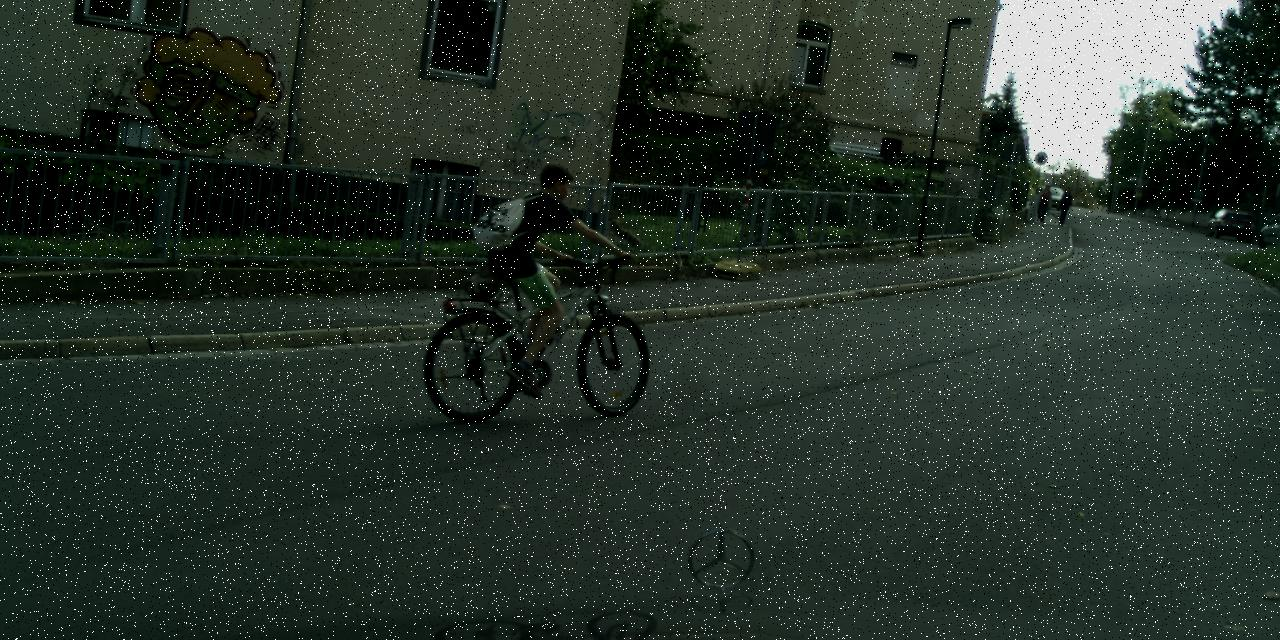ped: (491, 162, 586, 392), (1056, 188, 1072, 225), (1035, 184, 1050, 221)
